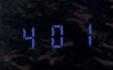four: (18, 21, 42, 50)
one: (69, 19, 93, 48)
zero: (44, 20, 68, 49)
